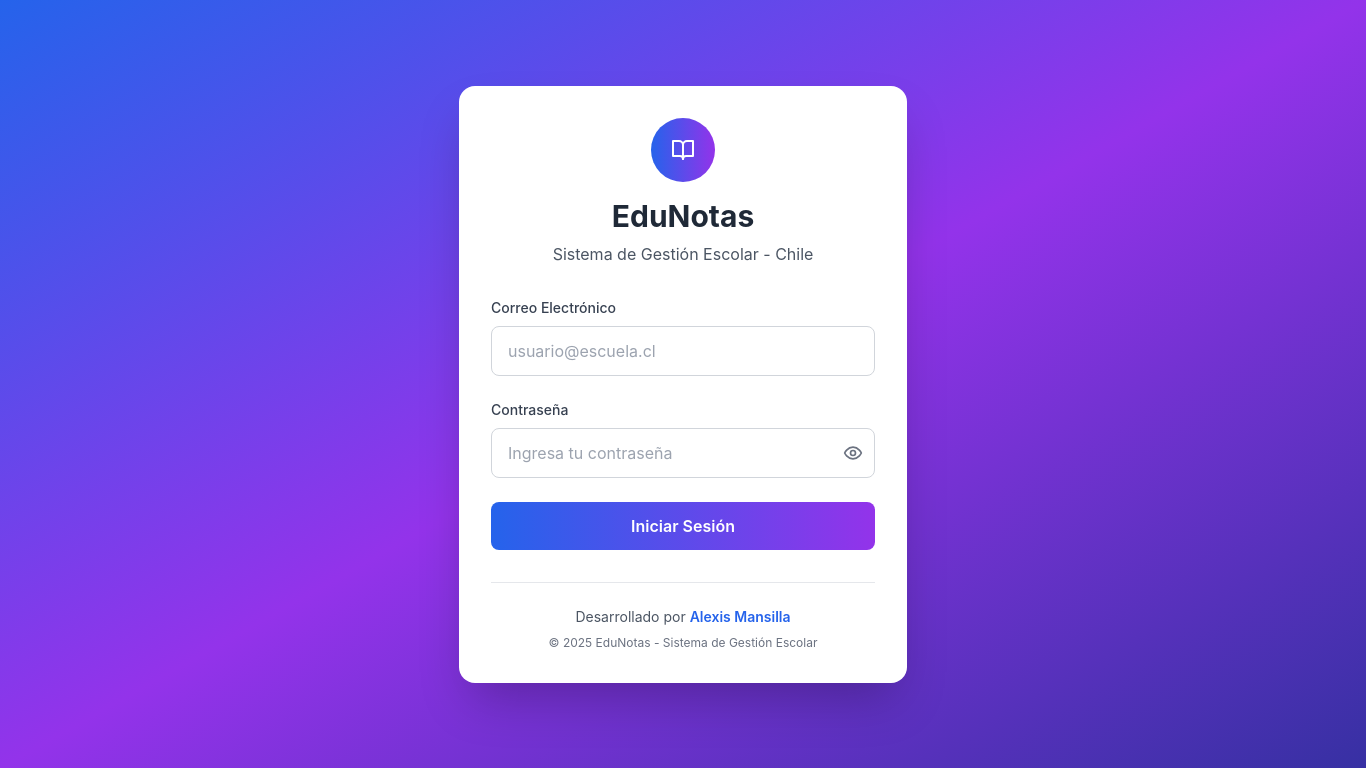
Scenario: SistemaNotasEscolar › should allow a professor to log in with correct credentials
This screenshot has width=1366, height=768.
Type "profesor1@escuela.cl" into the field with placeholder "usuario@escuela.cl".
click(683, 350); type("profesor1@escuela.cl")  # box [491,326,875,376]
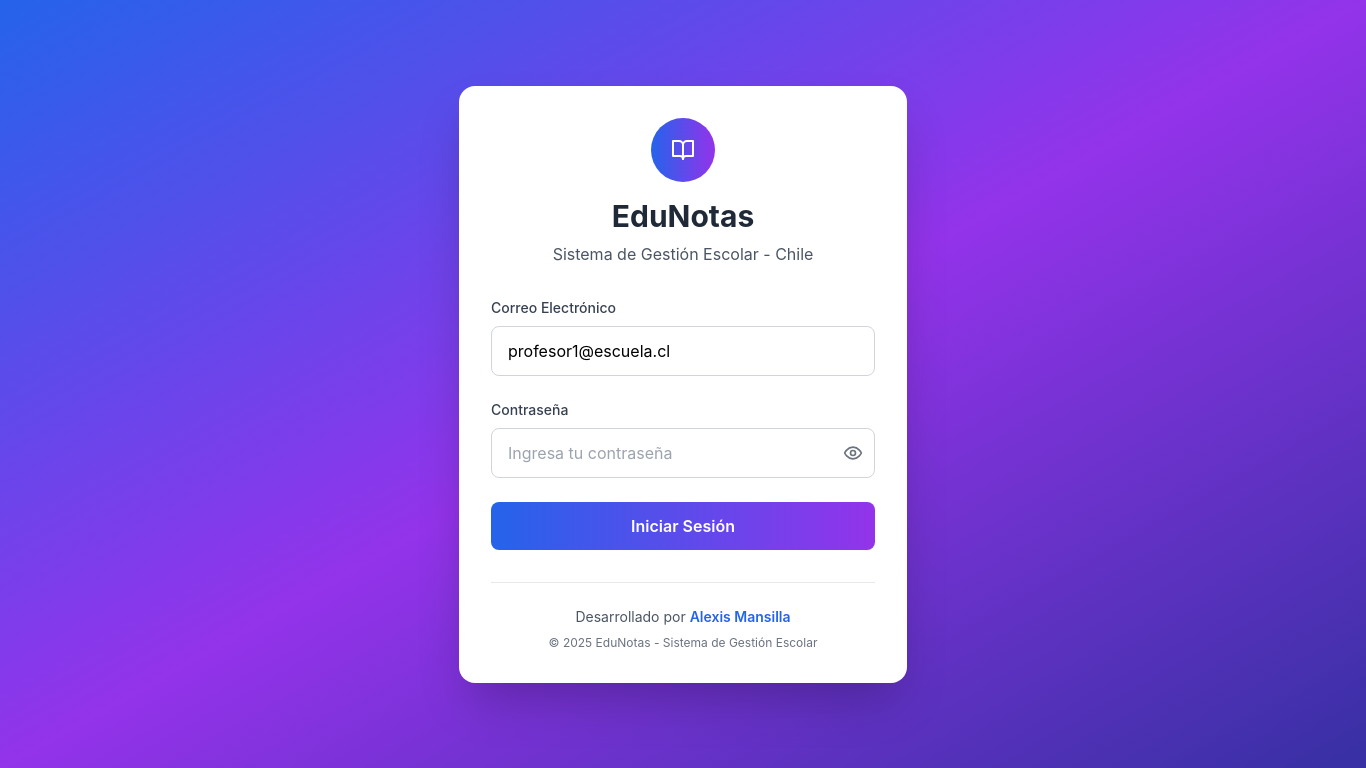
Type "clave123" into the password field with placeholder "Ingresa tu contraseña".
click(683, 452); type("clave123")  # box [491,428,875,478]
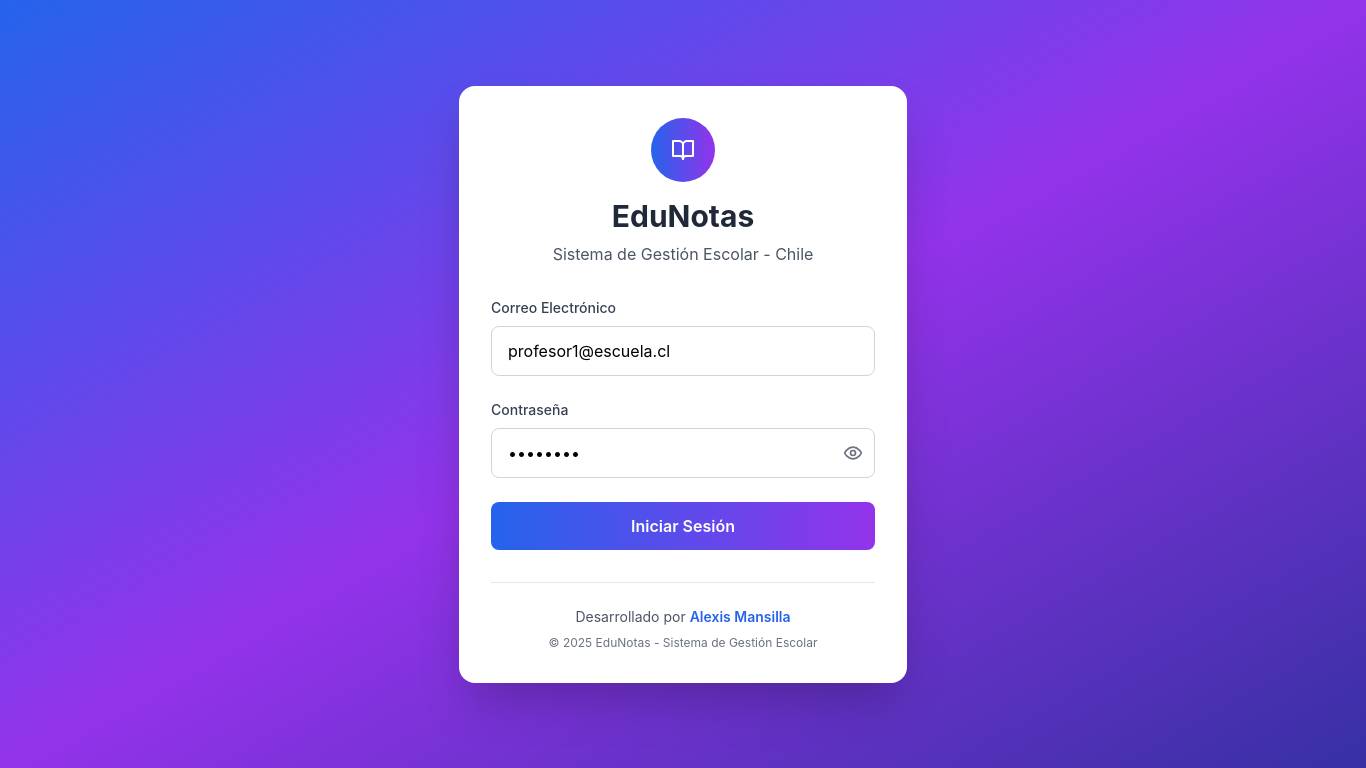
Click the button "Iniciar Sesión".
click(683, 526)  # box [491,502,875,550]
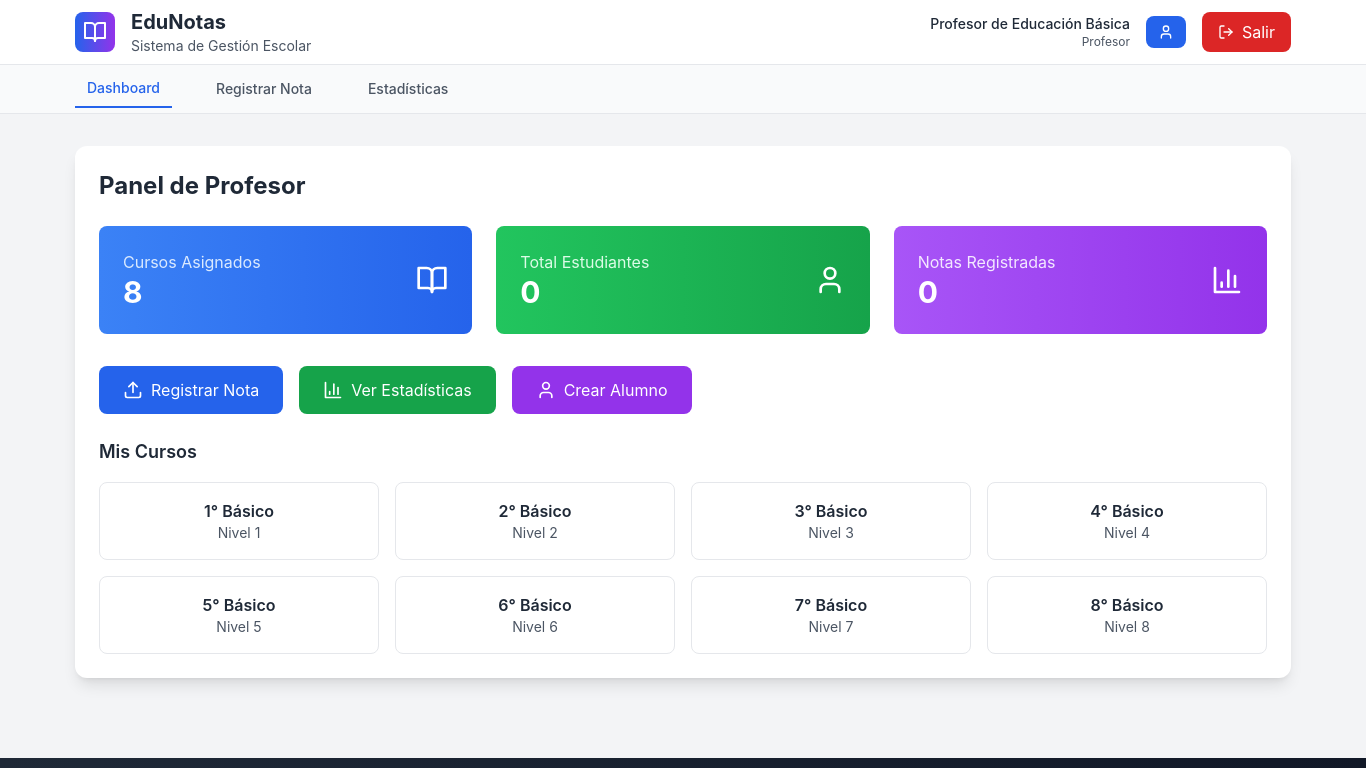
Check: the heading "Panel de Profesor" is shown, box [99,171,305,200]
Check: the text "Profesor de Educación Básica" is shown, box [930,14,1130,34]
